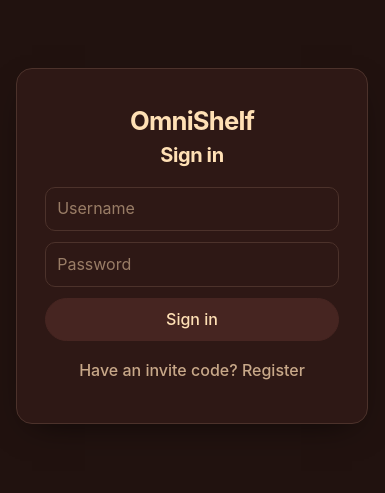
Test case: register form › requires username and password
The image size is (385, 493).
What coordinates should you click on to do the following:
click the button "Have an invite code? Register"
I would click on:
 (192, 370)
Its box is [70,349,314,391].
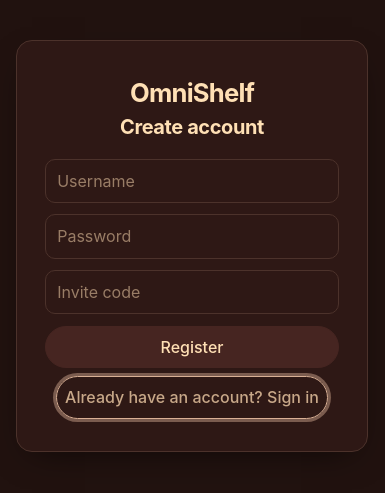
What coordinates should you click on to do the following:
click the button "Register"
I would click on:
 (192, 347)
Its box is [45,326,339,368].
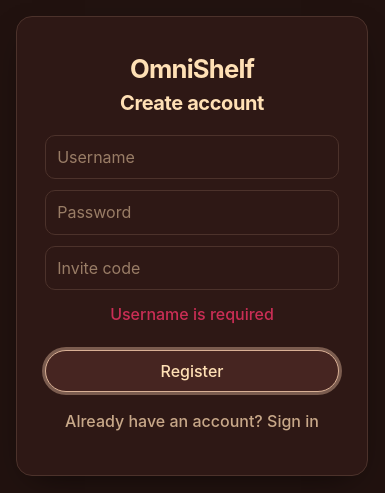
Check: the message reads "Username is required", box [110,304,274,324]
